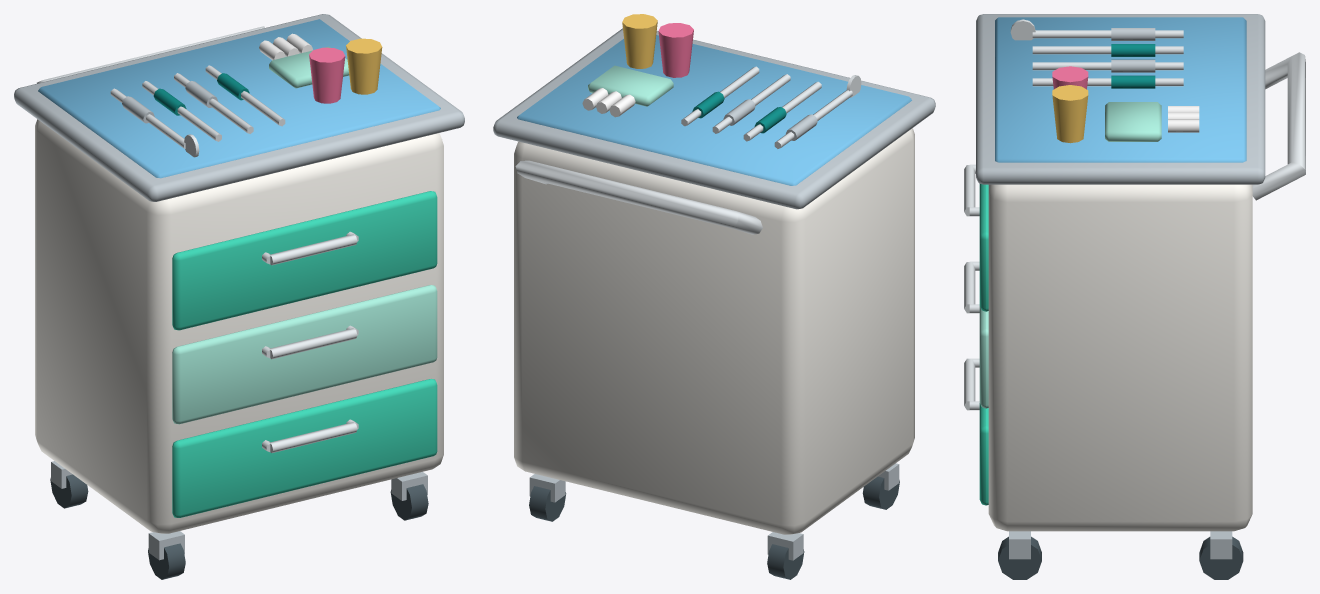
Rendered from op_cart.glb.
3 views of the same model, side by side, from view 1: azimuth 30°, elevation 25°; view 2: azimuth 150°, elevation 25°; view 3: azimuth 270°, elevation 25° (orthographic). The views are drawn at different scales.
Parts seen in each view (by area): view 1: OpCart; view 2: OpCart; view 3: OpCart.
Boxes of the visible parts, x1,y1,x2,y2 form: OpCart: [14, 14, 464, 579]; OpCart: [493, 14, 935, 579]; OpCart: [964, 14, 1305, 579].
Bounding box in the file's own units: 0.6 × 0.8283 × 0.5435.
